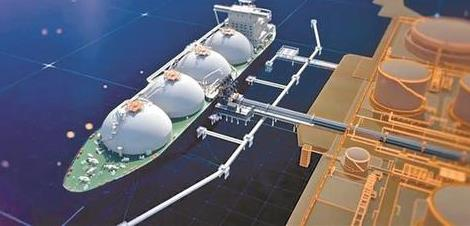Cargoship: (58, 1, 285, 196)
